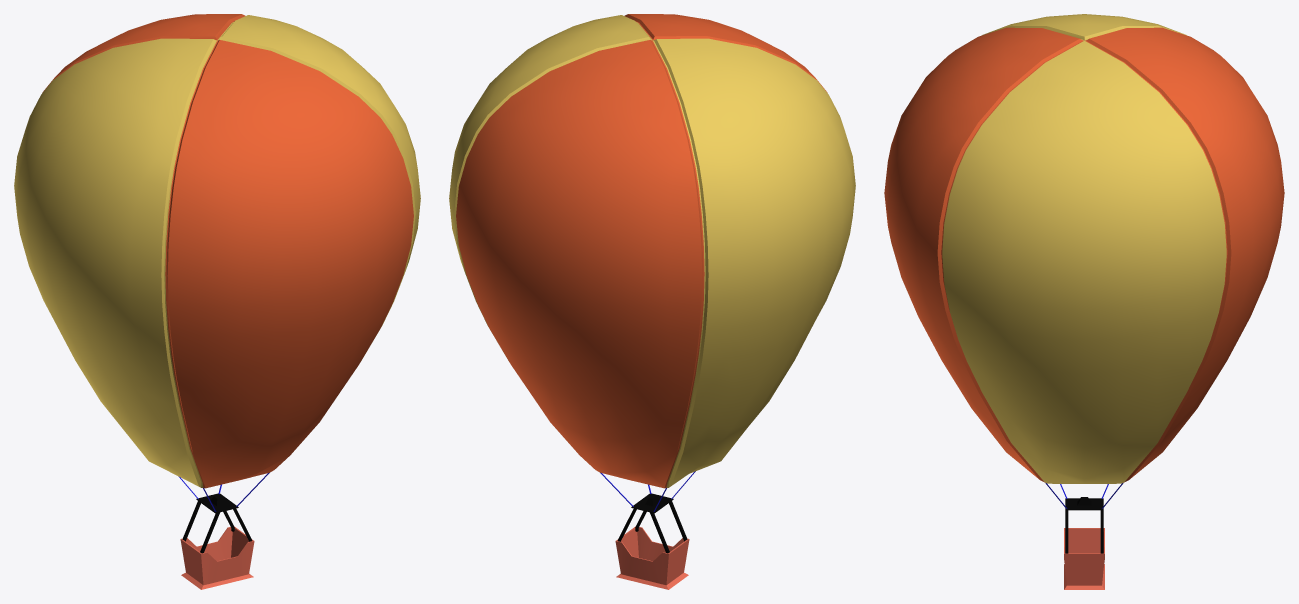
File: Hotair_Balloon_Mesh.fbx
3 views of the same model, side by side, from view 1: azimuth 30°, elevation 25°; view 2: azimuth 150°, elevation 25°; view 3: azimuth 270°, elevation 25° (orthographic).
Visible parts, largest first — view 1: Cube.002; view 2: Cube.002; view 3: Cube.002.
Part boxes in pixels (x1,y1,x2,y2): Cube.002: (14,14,420,589); Cube.002: (449,14,855,589); Cube.002: (884,14,1284,589).
Bounding box in the file's own units: 1522 × 1522 × 2259.
